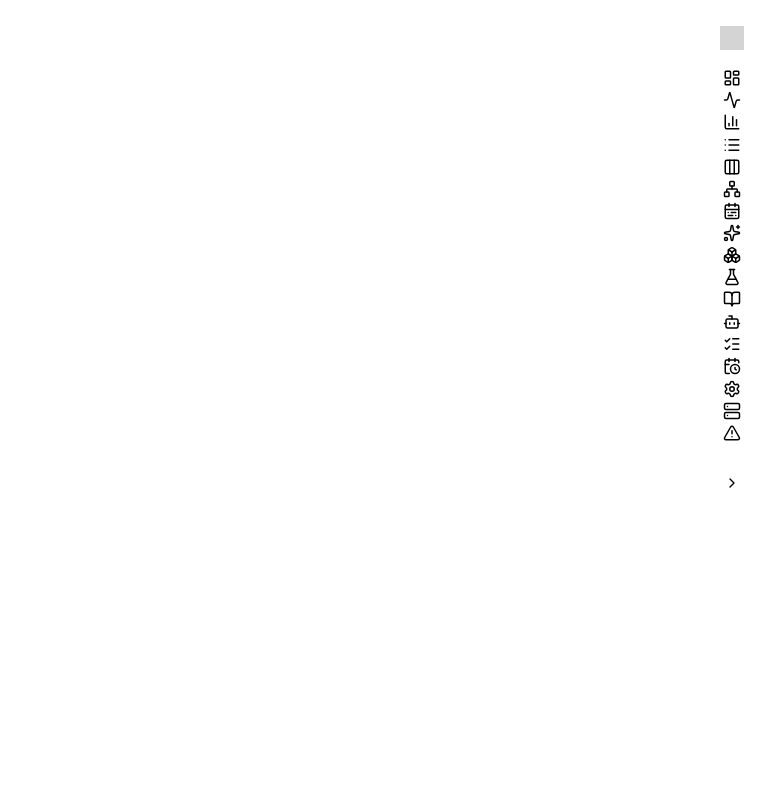
Test case: AppSidebar — Milestone 6: hover-to-expand overlay › after hover-expand, full labels are visible (sidebar visually expanded)
Hover over the navigation bar with class "app-sidebar" at (732, 38), box [718,26,746,497]
Wait 200 ms
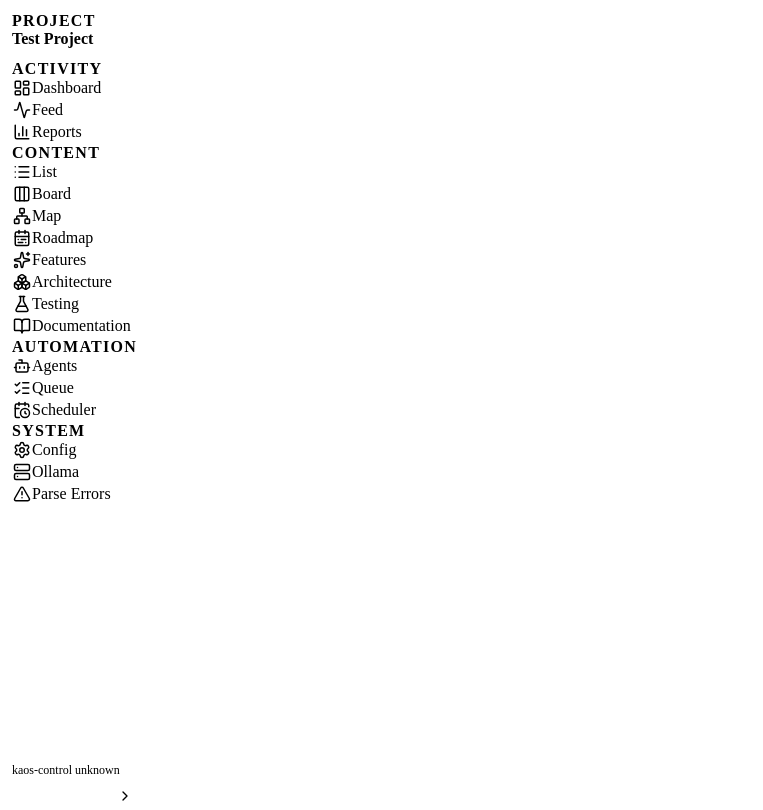
Expected: the text "Dashboard" is shown, [32,79,101,96]
